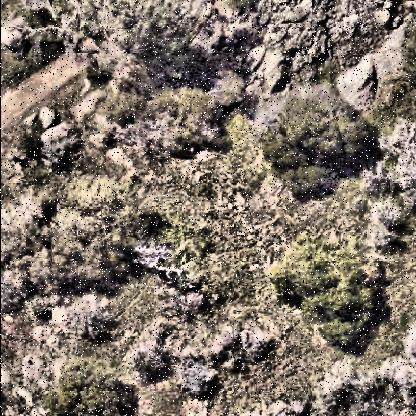tree-top: (278, 232, 380, 354), (63, 188, 166, 300), (54, 1, 196, 82), (264, 102, 378, 196), (136, 314, 268, 385), (136, 85, 215, 177), (363, 129, 416, 249), (38, 354, 130, 416), (346, 361, 414, 416), (67, 290, 119, 348)
